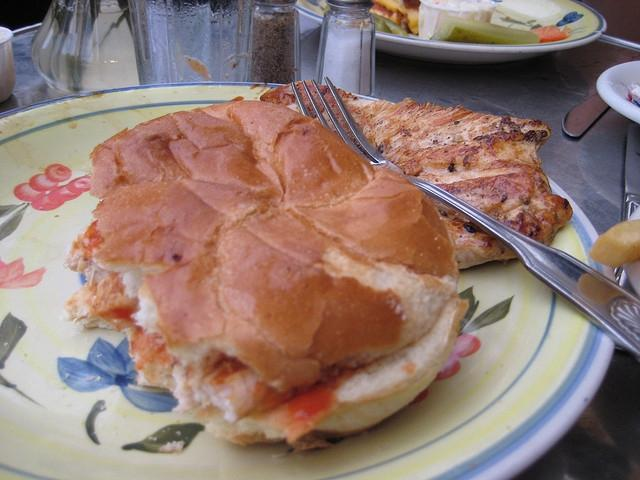tomato: (286, 385, 340, 444), (530, 24, 572, 44)
